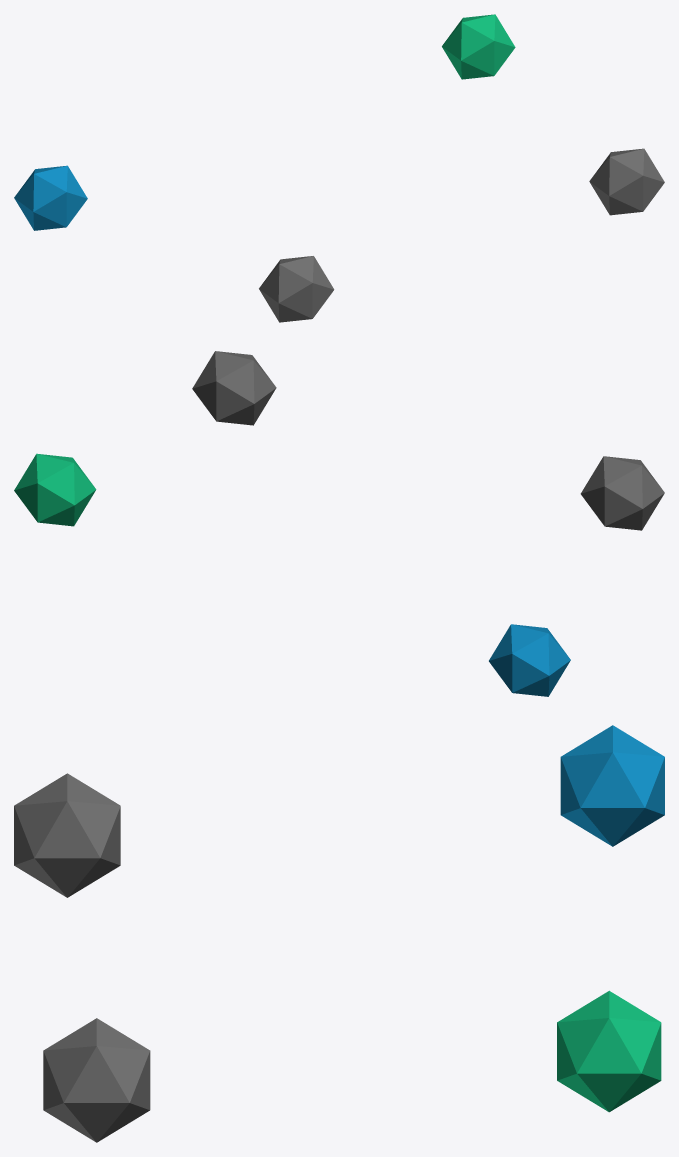
3 views of the same model, one above another, from view 1: azimuth 30°, elevation 25°; view 2: azimuth 150°, elevation 25°; view 3: azimuth 270°, elevation 25° (orthographic). The views are drawn at different scales.
Parts seen in each view (by area): view 1: 05_05_00; view 2: 05_05_00; view 3: 05_05_00.
Part boxes in pixels (box(x1,y1,x2,y2)): 05_05_00: box(14, 14, 664, 322); 05_05_00: box(14, 351, 664, 696); 05_05_00: box(14, 725, 664, 1142).
Size of the model in its own units: 0.4791 by 0.0999 by 0.3387.
